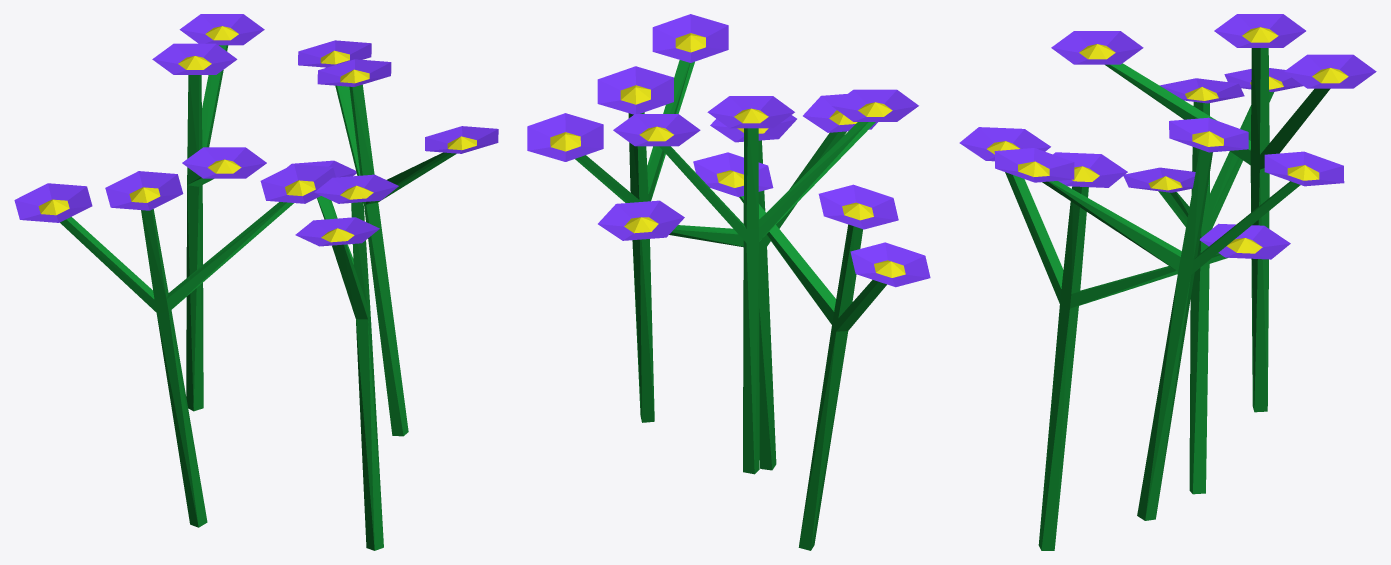
The model's file is PurpleAster_LOD0.fbx.
The picture shows the model from 3 angles, left to right: view 1: azimuth 30°, elevation 25°; view 2: azimuth 150°, elevation 25°; view 3: azimuth 270°, elevation 25°; orthographic projection. The views are drawn at different scales.
Visible parts, largest first — view 1: PurpleAster_LOD0; view 2: PurpleAster_LOD0; view 3: PurpleAster_LOD0.
Part boxes in pixels (left/top/right/bottom): PurpleAster_LOD0: left=14, top=14, right=498, bottom=550; PurpleAster_LOD0: left=527, top=14, right=930, bottom=550; PurpleAster_LOD0: left=959, top=14, right=1376, bottom=550.
Bounding box in the file's own units: 23.96 × 30.35 × 26.93.
